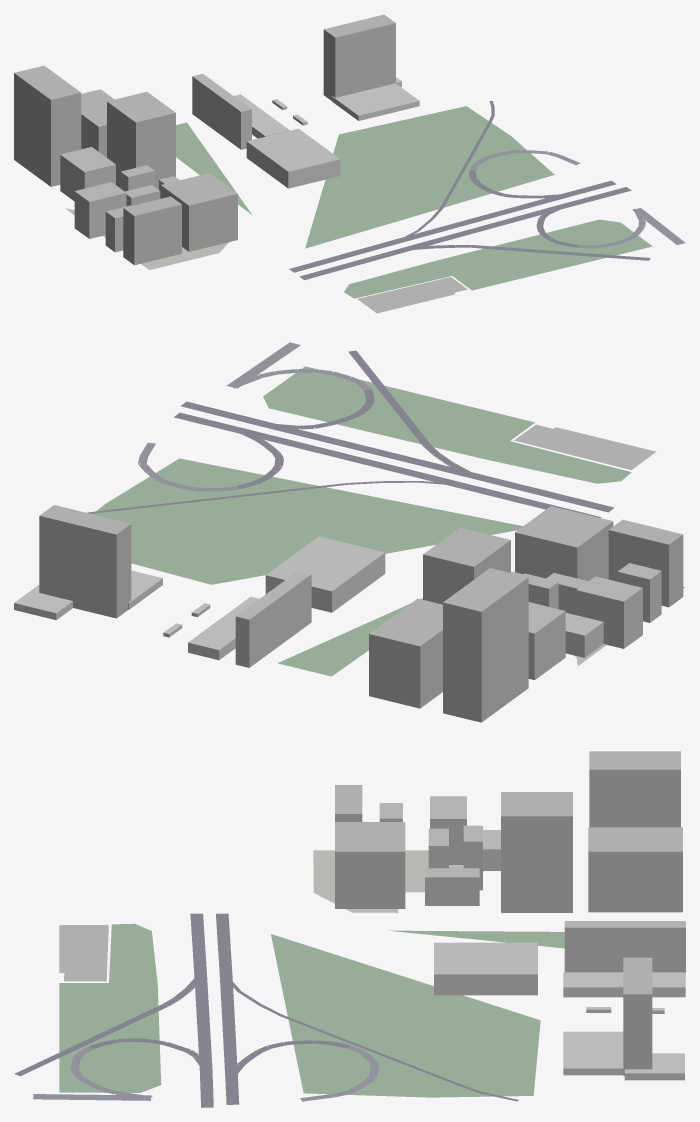
File: 119_87_mid.glb
3 views of the same model, one above another, from view 1: azimuth 30°, elevation 25°; view 2: azimuth 150°, elevation 25°; view 3: azimuth 270°, elevation 25° (orthographic). The views are drawn at different scales.
Bounding box in the file's own units: 533 × 98.4 × 554.
